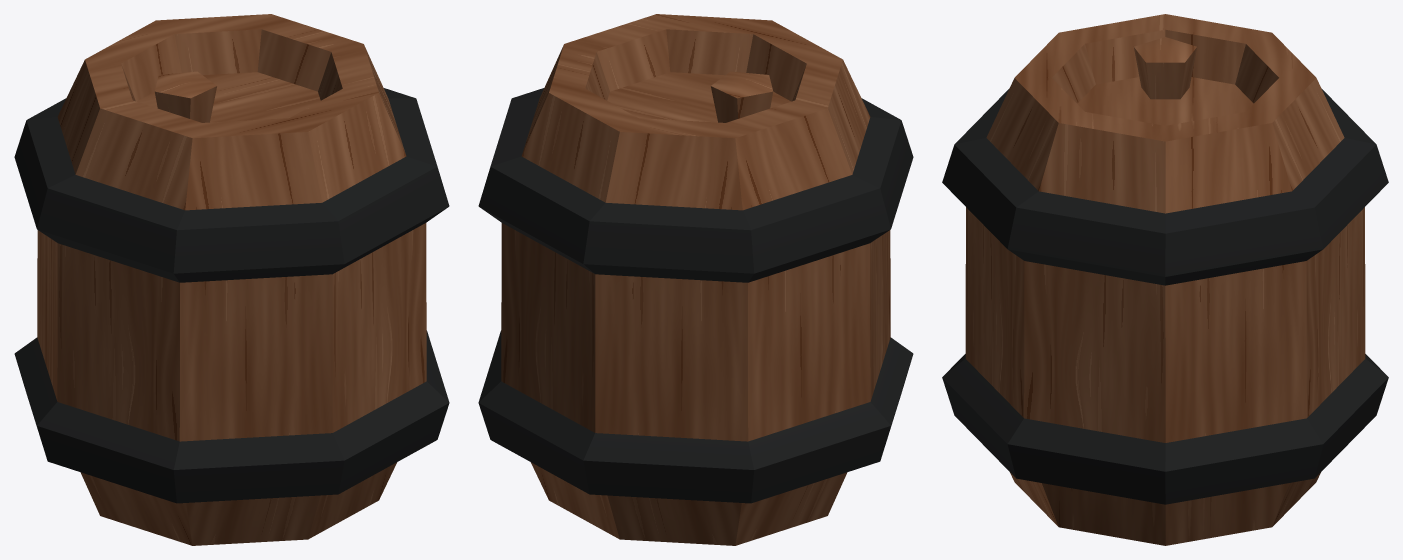
File: barrel_small.gltf
3 renders of one model, left to right at view 1: azimuth 30°, elevation 25°; view 2: azimuth 150°, elevation 25°; view 3: azimuth 270°, elevation 25°, orthographic.
Parts seen in each view (by area): view 1: barrel_small; view 2: barrel_small; view 3: barrel_small.
Part boxes in pixels (x1,y1,x2,y2): barrel_small: (14, 14, 449, 545); barrel_small: (478, 14, 913, 545); barrel_small: (942, 14, 1388, 545).
Size of the model in its own units: 1 by 1.02 by 1.
2 materials, 1 textured.
